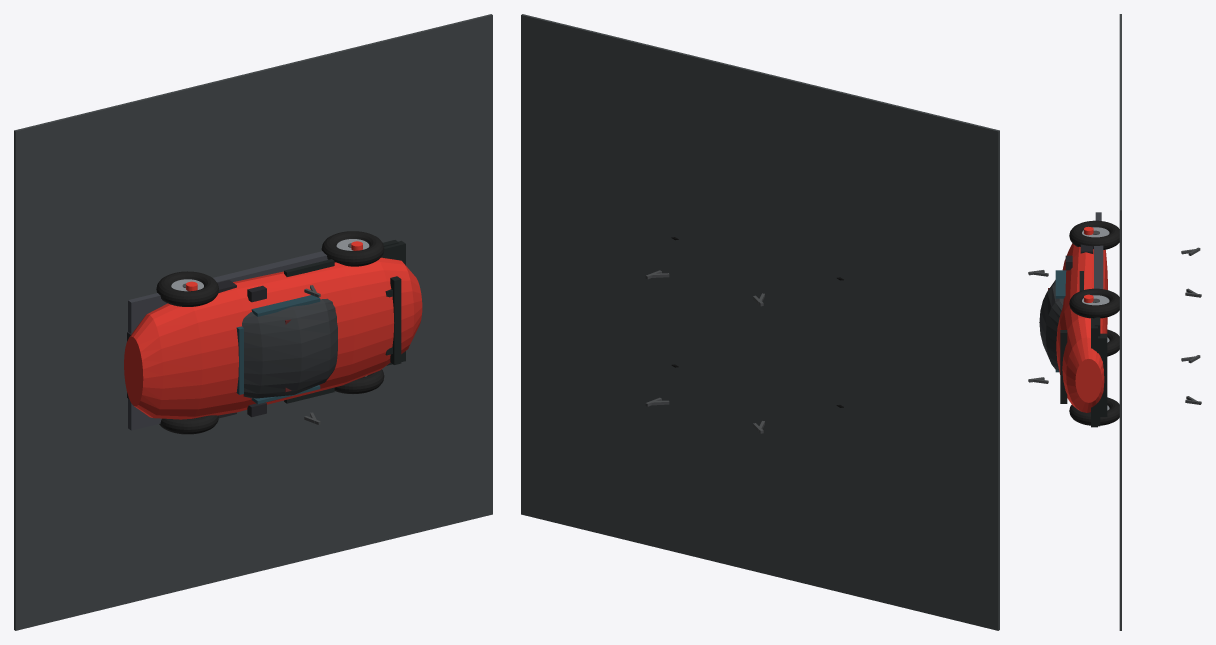
3 views of the same model, side by side, from view 1: azimuth 30°, elevation 25°; view 2: azimuth 150°, elevation 25°; view 3: azimuth 270°, elevation 25° (orthographic). The views are drawn at different scales.
Parts seen in each view (by area): view 1: Ground, Body_Main, Body_RoofShell_1, Wheel_F_R_Tire, Wheel_R_R_Tire, Body_AeroPanel_1, Body_SecondaryPanel_R, Rear_Spoiler_Main, Wheel_F_L_Tire, Wheel_R_L_Tire; view 2: Ground; view 3: Body_Main, Ground, Body_RoofShell_1, Wheel_R_R_Tire, Wheel_F_R_Tire, Wheel_R_L_Tire, Rear_Diffuser, Body_SecondaryPanel_R, Rear_Spoiler_Main, Body_AeroPanel_3, Glass_Side_R, Wheel_F_L_Tire.
Part boxes in pixels (x1,y1,x2,y2): Ground: (14, 14, 492, 630); Body_Main: (124, 257, 422, 419); Body_RoofShell_1: (242, 298, 337, 398); Wheel_F_R_Tire: (156, 271, 218, 306); Wheel_R_R_Tire: (321, 231, 384, 266); Body_AeroPanel_1: (128, 293, 167, 430); Body_SecondaryPanel_R: (213, 251, 327, 282); Rear_Spoiler_Main: (390, 276, 401, 364); Wheel_F_L_Tire: (159, 415, 218, 434); Wheel_R_L_Tire: (334, 369, 384, 393); Ground: (521, 14, 999, 630); Body_Main: (1056, 243, 1107, 412); Ground: (1119, 14, 1121, 630); Body_RoofShell_1: (1039, 280, 1063, 370); Wheel_R_R_Tire: (1069, 288, 1119, 318); Wheel_F_R_Tire: (1069, 220, 1119, 249); Wheel_R_L_Tire: (1069, 397, 1119, 425); Rear_Diffuser: (1098, 333, 1107, 416); Body_SecondaryPanel_R: (1094, 245, 1103, 288); Rear_Spoiler_Main: (1060, 330, 1067, 403); Body_AeroPanel_3: (1091, 318, 1097, 427); Glass_Side_R: (1055, 270, 1066, 298); Wheel_F_L_Tire: (1107, 329, 1119, 356).
Bounding box in the file's own units: 8 × 8 × 2.98.
